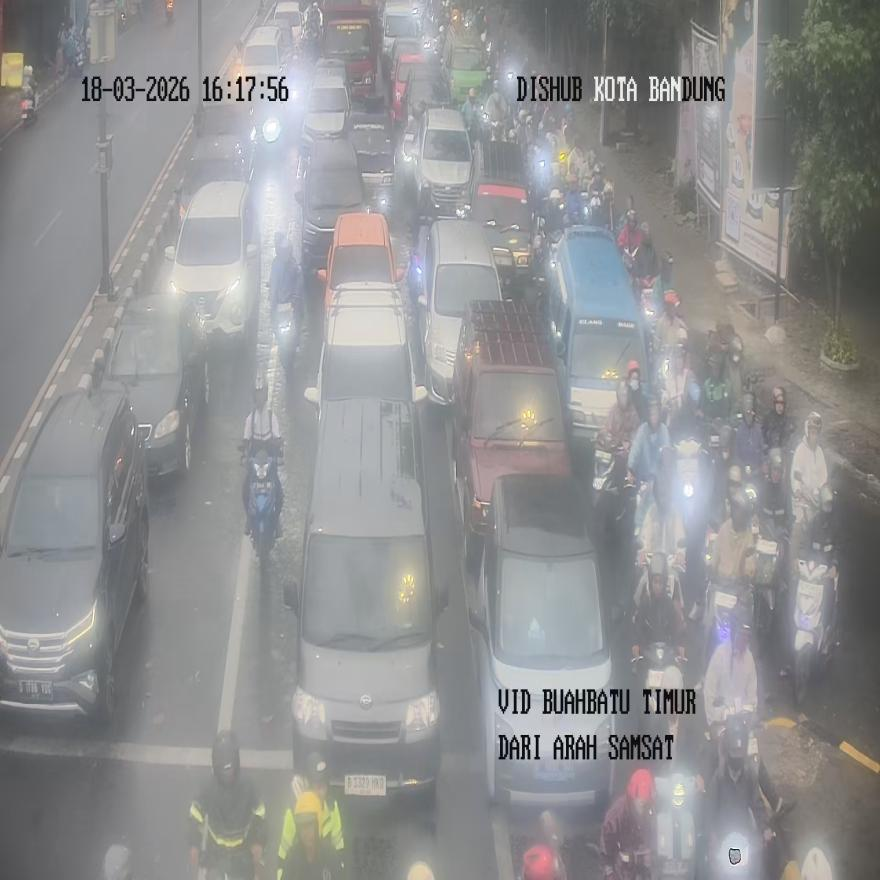Motor: (285, 395, 448, 803), (468, 475, 628, 808), (0, 389, 150, 722), (451, 300, 571, 573), (547, 227, 648, 443), (105, 292, 209, 475), (413, 219, 503, 405), (304, 288, 426, 420), (165, 180, 262, 340), (460, 138, 536, 288), (319, 213, 402, 305), (417, 108, 472, 216)
Truk: (793, 560, 837, 707), (676, 437, 712, 614), (653, 775, 698, 879), (247, 441, 282, 571), (270, 234, 302, 373), (593, 437, 635, 541), (704, 576, 753, 664), (710, 699, 759, 778), (753, 524, 783, 648), (701, 829, 764, 879), (631, 642, 687, 690), (676, 440, 704, 532), (622, 247, 656, 303), (275, 302, 301, 373), (651, 336, 674, 392), (634, 276, 658, 326), (634, 552, 653, 607), (532, 143, 551, 197), (21, 66, 38, 124), (582, 193, 607, 228), (743, 466, 760, 517), (707, 419, 721, 465), (199, 867, 251, 879), (622, 246, 638, 277), (304, 34, 320, 64), (75, 37, 86, 74), (490, 120, 507, 141), (118, 11, 127, 32), (166, 0, 174, 21)
